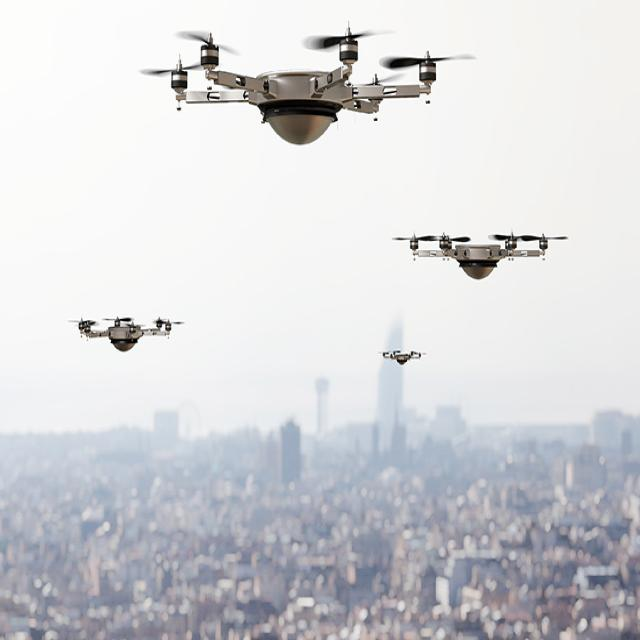drone: (143, 19, 447, 129), (398, 227, 572, 285), (72, 310, 186, 363), (382, 343, 426, 371)
